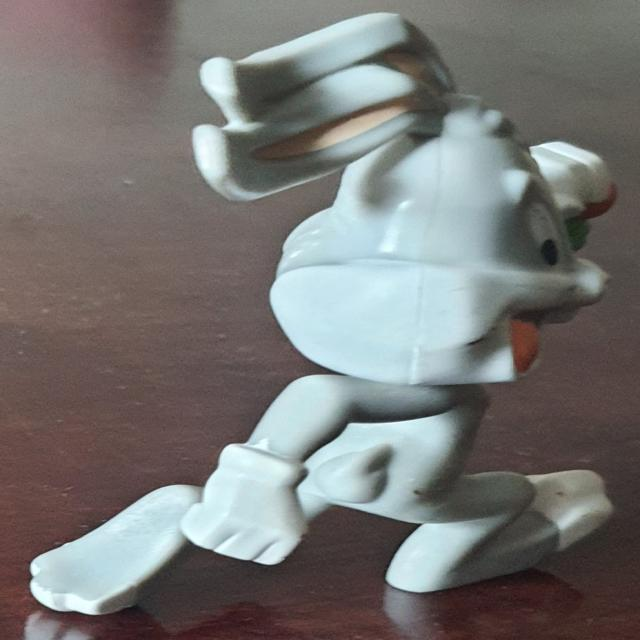Rabbit: (28, 11, 616, 617)
